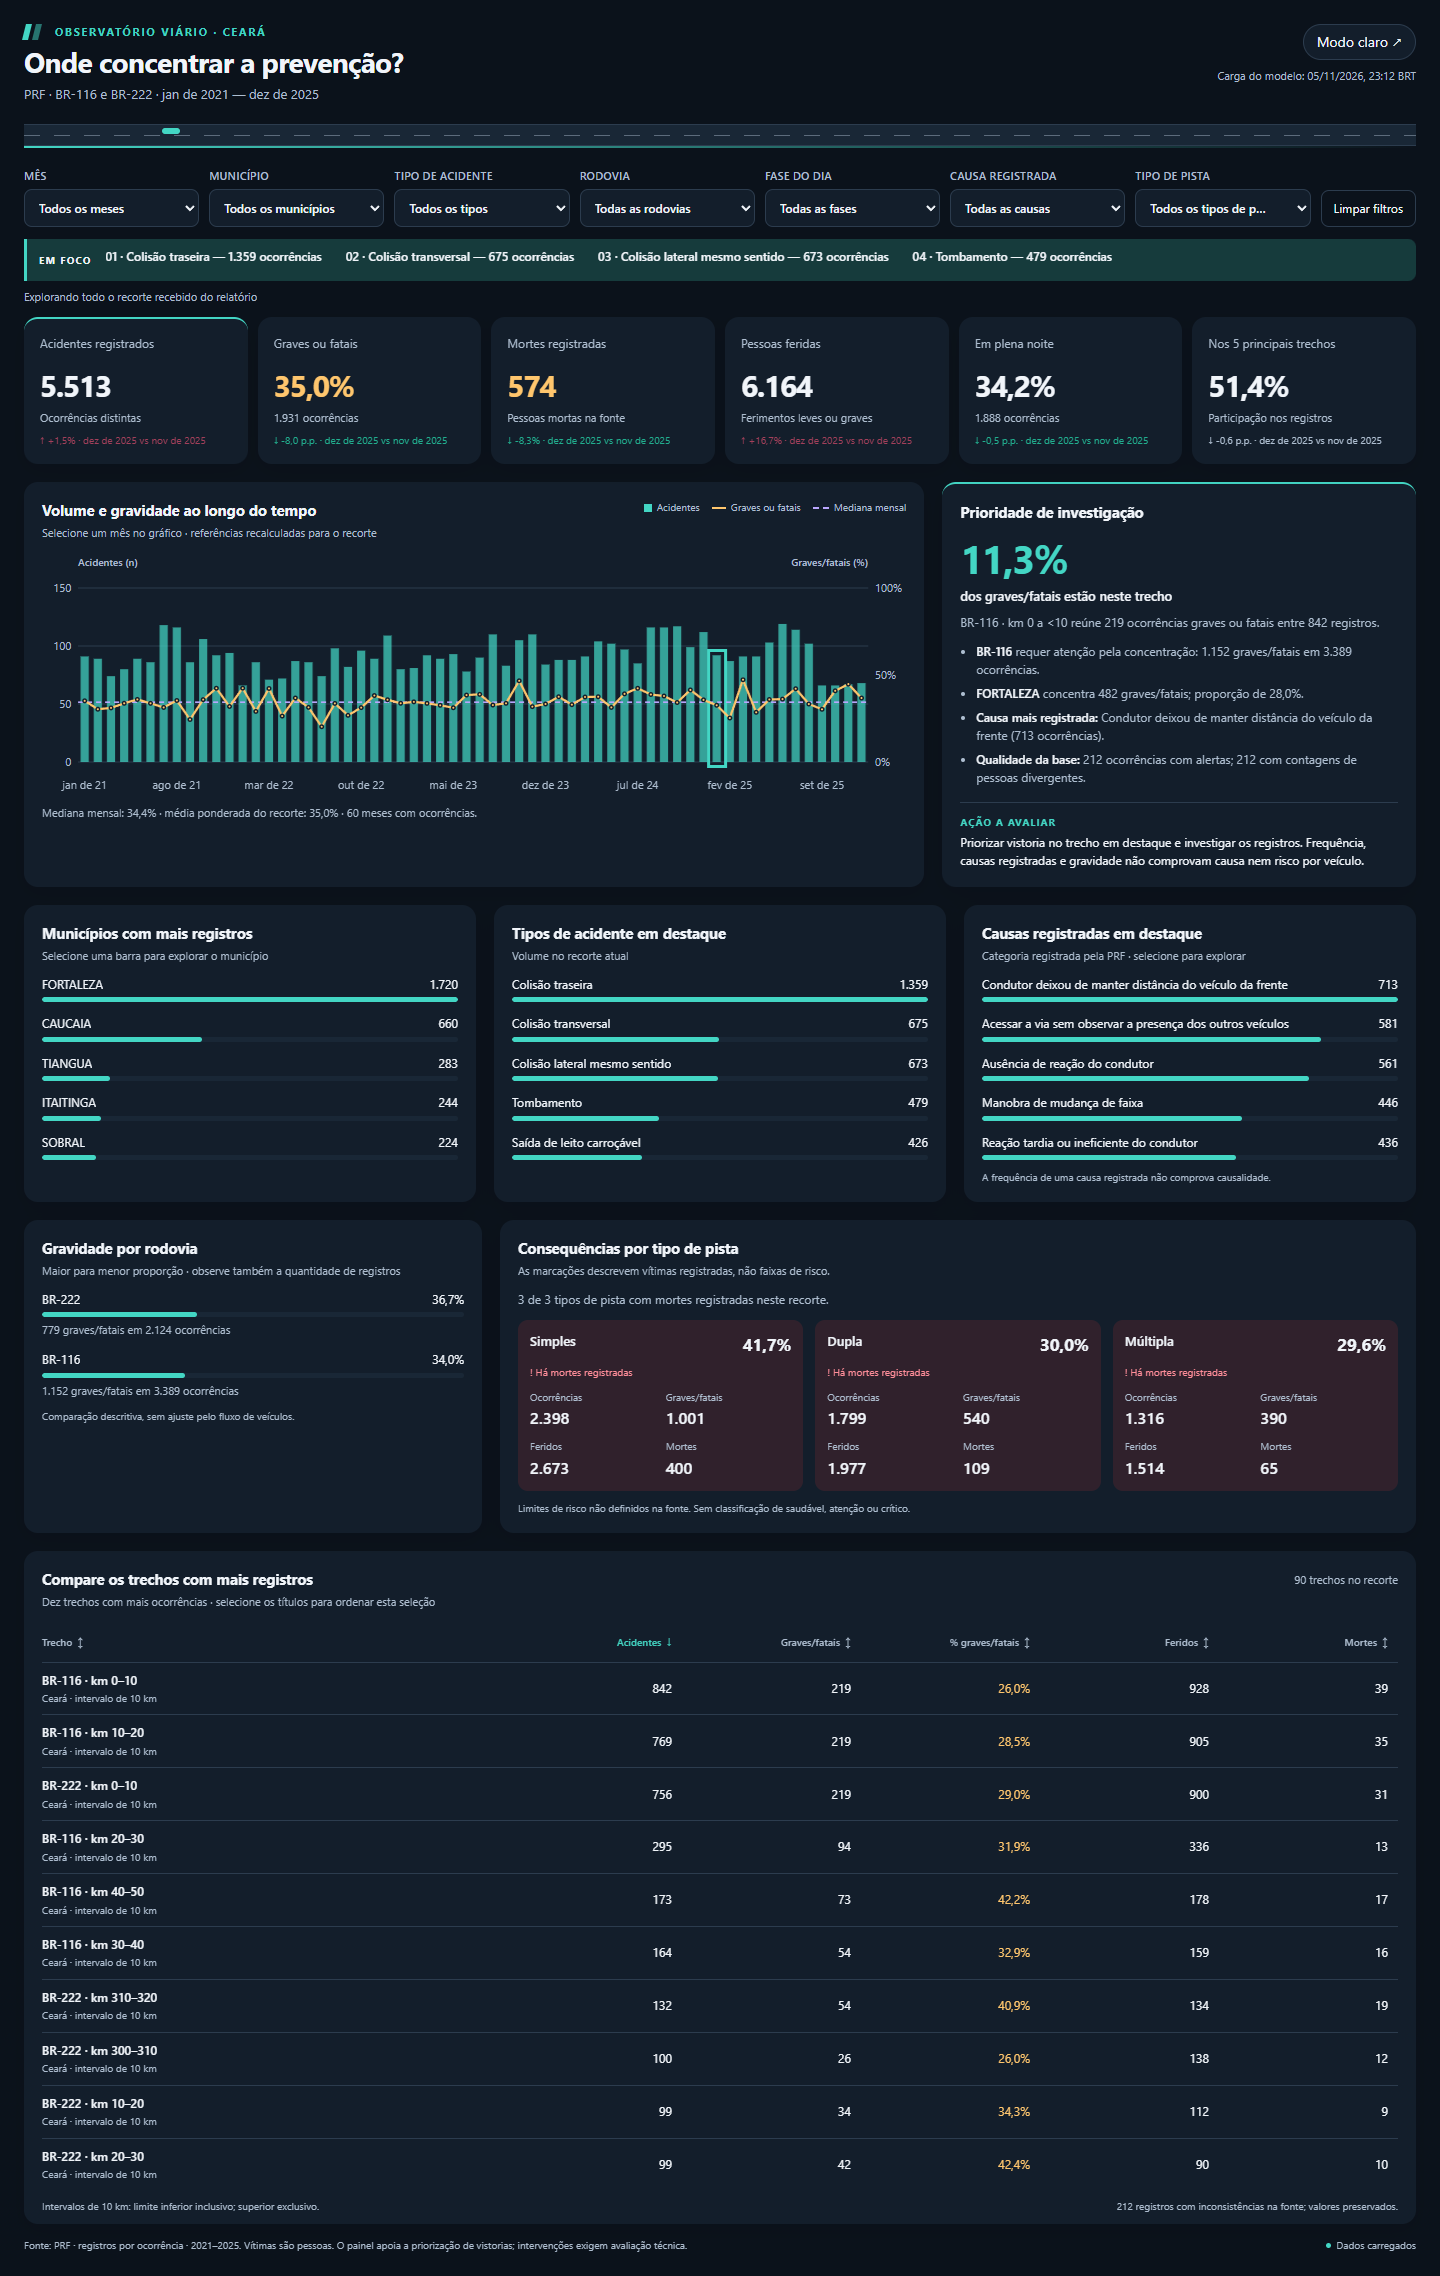

Layout of this report page (visuals, bound fields, positions):
{"tool":"powerbi","page":{"name":"Página 2","canvas":[1280,720],"ordinal":1},"visuals":[{"type":"htmlContent443BE3AD55E043BF878BED274D3A6855","fields":{"content":["fAcidentes.HTML Dashboard PRF"]},"box":[0,0,1279.8,720.2],"z":0}]}

Visuals, with their boxes on the page's 1280x720 design canvas (x1, y1, x2, y2). These are canvas units, not pixel positions in the 1440x2276 screenshot, which may show the page scaled, cropped or inside an application window:
htmlContent443BE3AD55E043BF878BED274D3A6855 - fAcidentes.HTML Dashboard PRF: {"left": 0, "top": 0, "right": 1280, "bottom": 720}
